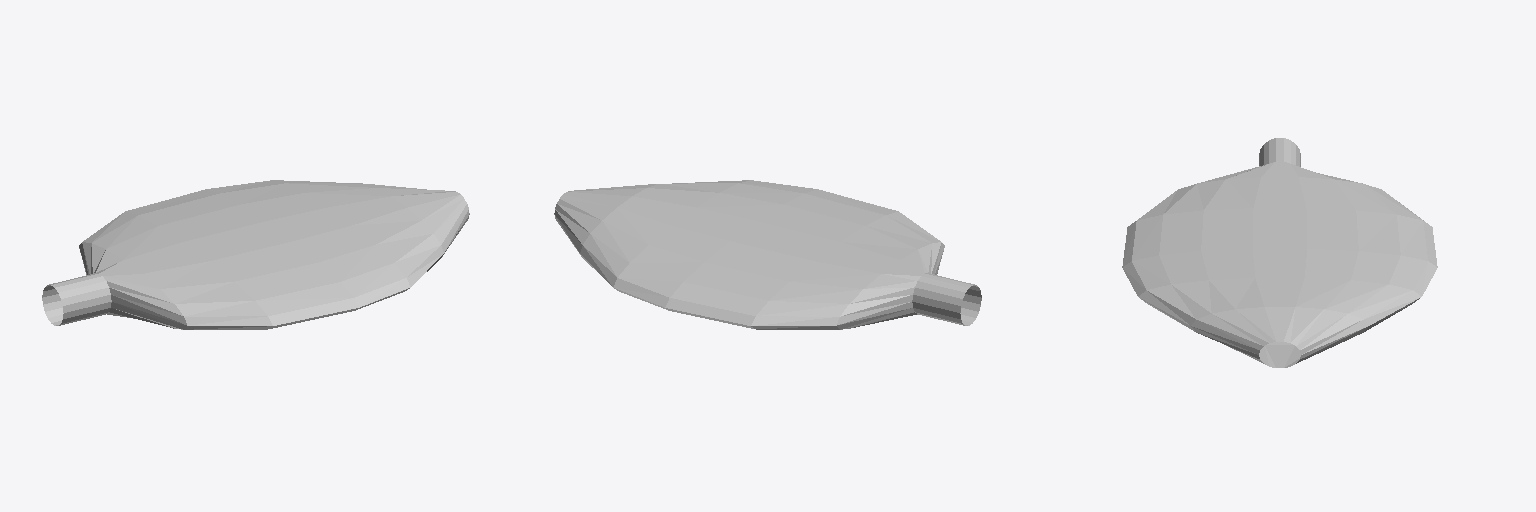
File: S_red2.obj
The picture shows the model from 3 angles: view 1: azimuth 30°, elevation 25°; view 2: azimuth 150°, elevation 25°; view 3: azimuth 270°, elevation 25°; orthographic projection.
Visible parts, largest first — view 1: red; view 2: red; view 3: red.
Part boxes in pixels (x1,y1,x2,y2): red: (42, 180, 469, 329); red: (554, 180, 981, 329); red: (1122, 138, 1437, 367).
Bounding box in the file's own units: 26.62 × 2.38 × 17.91.